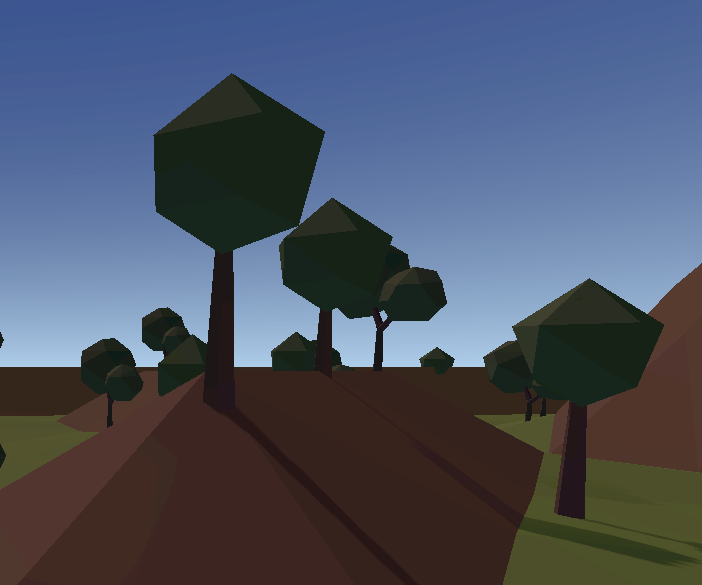tree: (150, 71, 326, 404), (510, 270, 664, 510), (278, 203, 396, 374), (328, 226, 448, 376), (68, 335, 143, 429), (482, 335, 558, 424), (151, 334, 213, 401), (137, 305, 189, 360), (269, 331, 324, 376), (412, 345, 459, 371)
